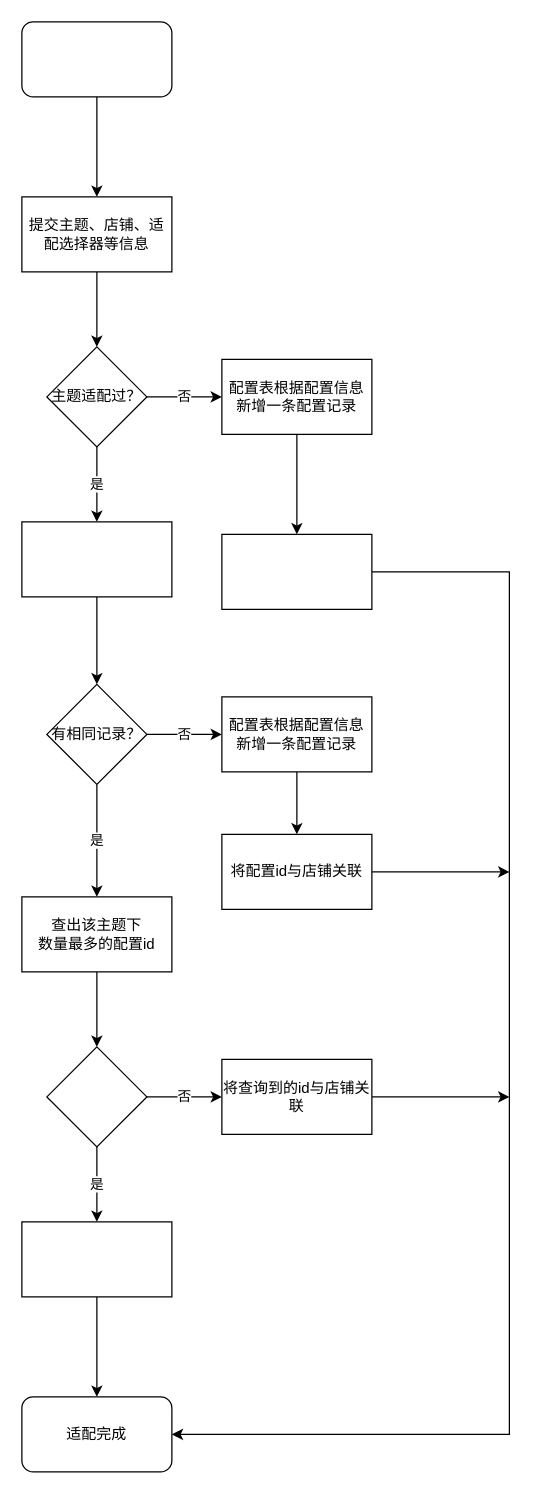
This 541x1494 diagram has some shape labels left out. The centre of each missing label's shape, as x and y in pixels:
与主题的配置id不同？: the point at 96,1096
主题不兼容 客服开始适配: the point at 96,59
修改主题的配置id 关联店铺id: the point at 96,1259
将配置id与主题、店铺同时关联: the point at 296,571
查配置表看是否存在相同配置的记录: the point at 96,559
